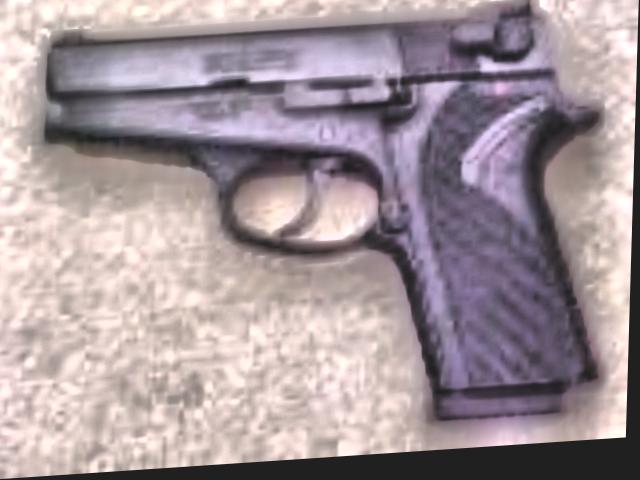pistol: (30, 0, 615, 446)
